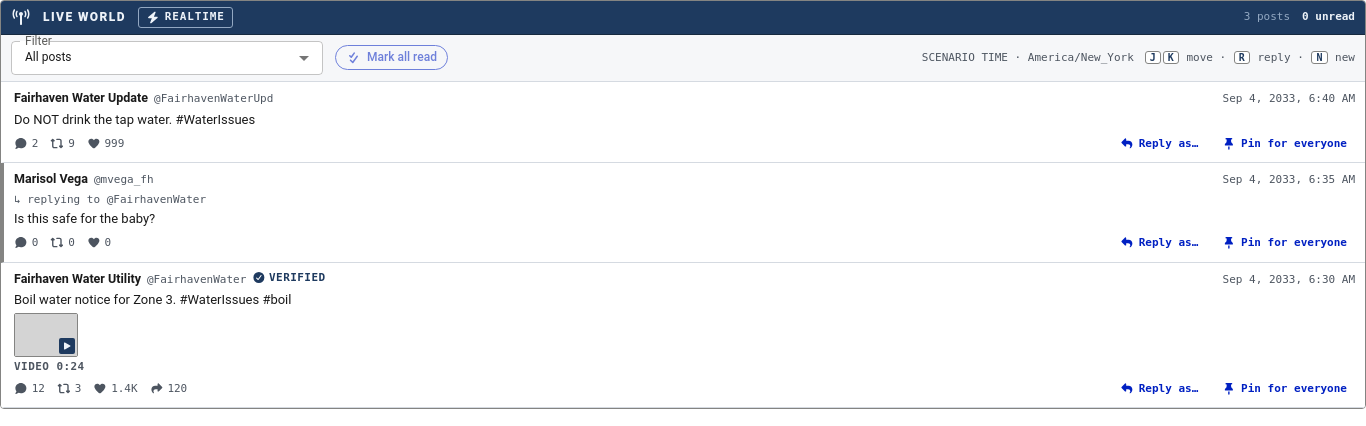
Test case: AC4 — filters › filters by hashtag: matching rows only, a chip, the count, and a polite announcement
Select "#boil" in the dropdown with test id "live-world-filter". click: (167, 58)
box: x1=11 y1=40 x2=323 y2=75
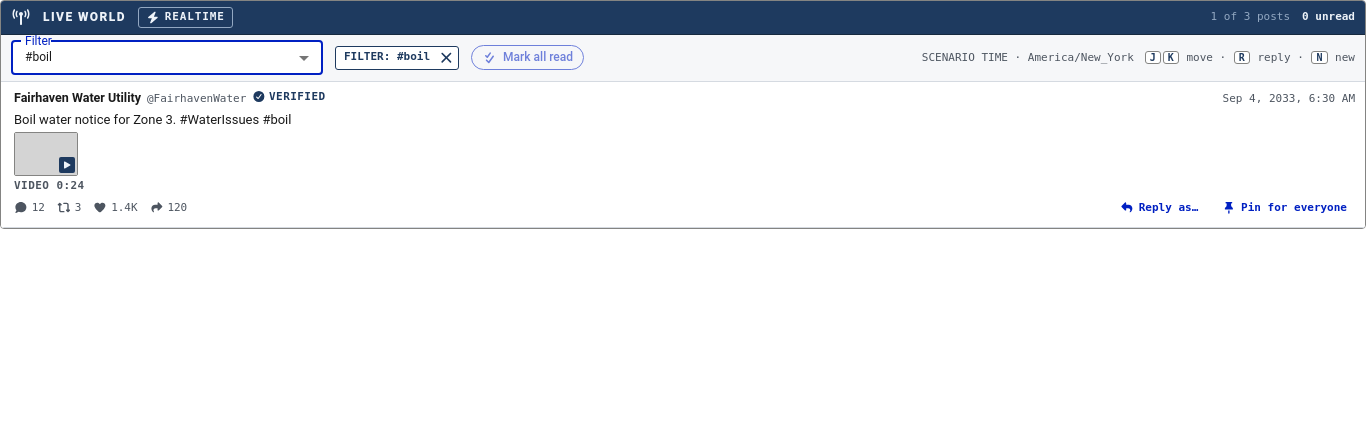
Expected: the element with test id "live-world-filter-chip" reads "FILTER: #boil", x1=344 y1=50 x2=430 y2=63
Expected: the text with test id "live-world-count" reads "1 of 3 posts", x1=1210 y1=10 x2=1290 y2=23
